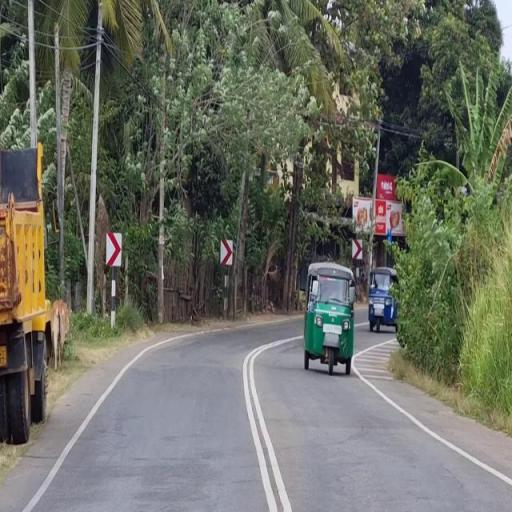double_white_line: (352, 360, 512, 490), (242, 338, 294, 512)
